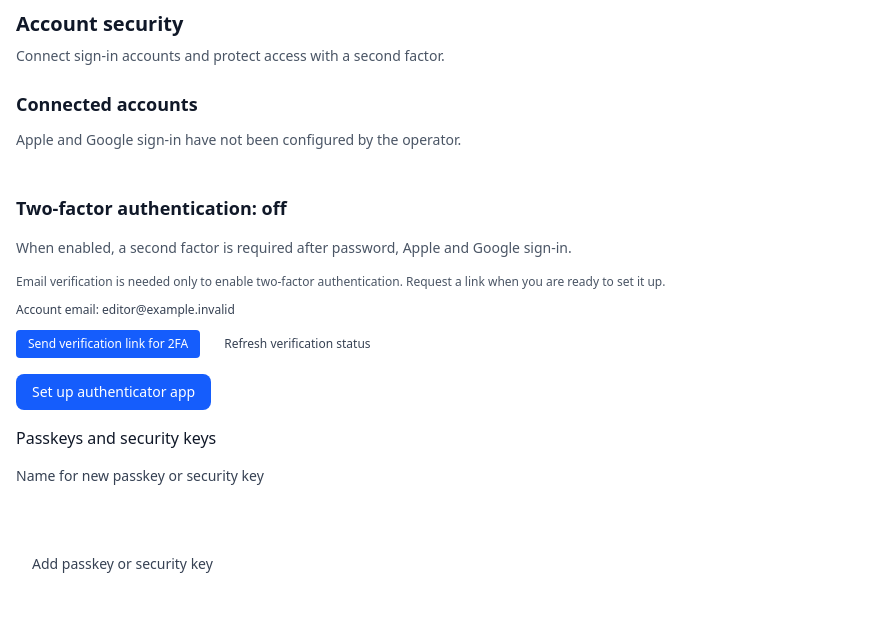
Test: AccountSecurityPanel provider callback › does not send verification mail on load and requests it only on explicit action
Expected: the button "Set up authenticator app" is disabled, x1=16 y1=374 x2=211 y2=410
What coordinates should you click on to do the following:
click the button "Send verification link for 2FA"
I would click on:
 (108, 344)
Its box is x1=16 y1=330 x2=200 y2=358.
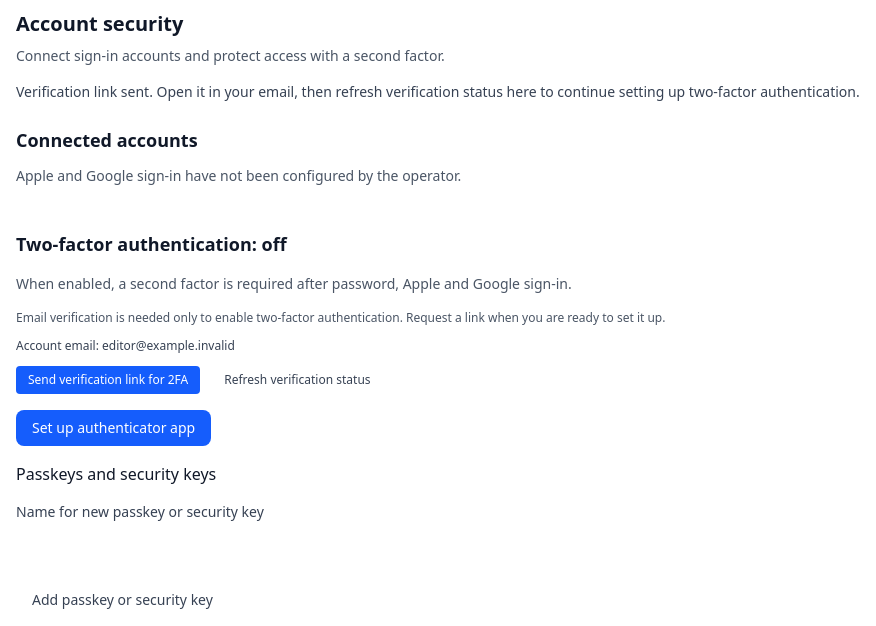
Expected: the message shows "Verification link sent", x1=16 y1=82 x2=860 y2=101
